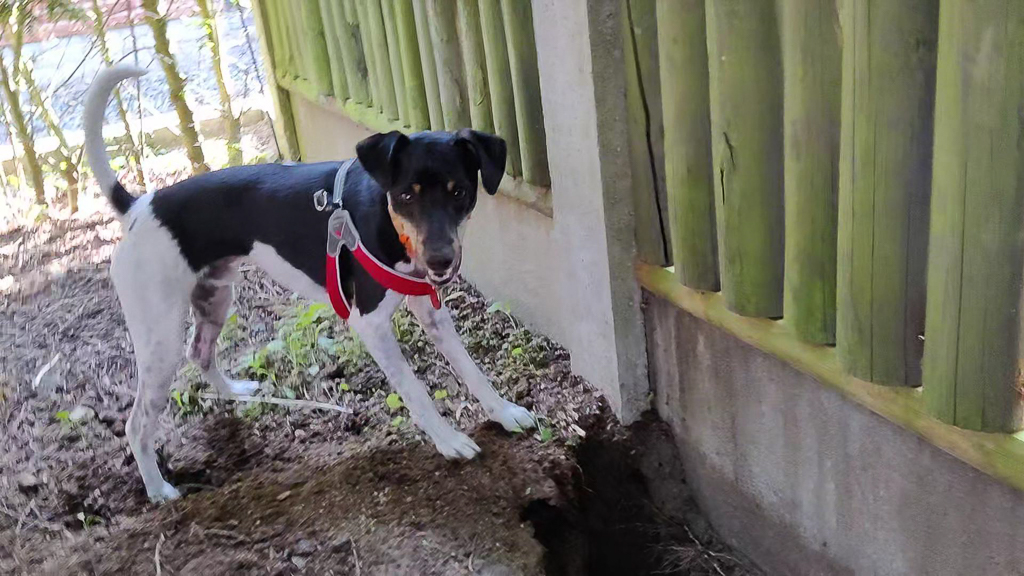Dog: (73, 45, 558, 516)
